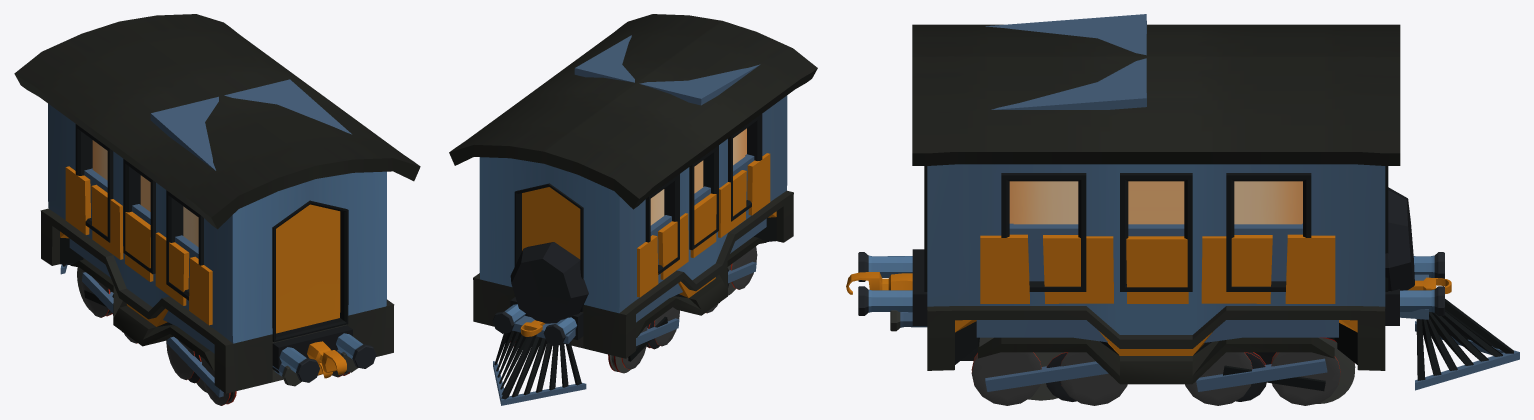
The model's file is Train-Parts.fbx.
The picture shows the model from 3 angles, left to right: view 1: azimuth 30°, elevation 25°; view 2: azimuth 150°, elevation 25°; view 3: azimuth 270°, elevation 25°; orthographic projection. The views are drawn at different scales.
Visible parts, largest first — view 1: people_carriage, Coal_carriage, locomotive; view 2: people_carriage, locomotive, Coal_carriage; view 3: people_carriage, Coal_carriage, locomotive.
Part boxes in pixels (x1=…): people_carriage: x1=14, y1=14, x2=420, y2=393; Coal_carriage: x1=65, y1=166, x2=349, y2=405; locomotive: x1=60, y1=79, x2=358, y2=392; people_carriage: x1=449, y1=14, x2=817, y2=361; locomotive: x1=493, y1=35, x2=760, y2=405; Coal_carriage: x1=621, y1=153, x2=770, y2=369; people_carriage: x1=846, y1=24, x2=1451, y2=401; Coal_carriage: x1=971, y1=223, x2=1340, y2=405; locomotive: x1=890, y1=14, x2=1519, y2=403.
Bounding box in the file's own units: 918 × 1055 × 2062.
Materials: 1 (1 with a texture image).
